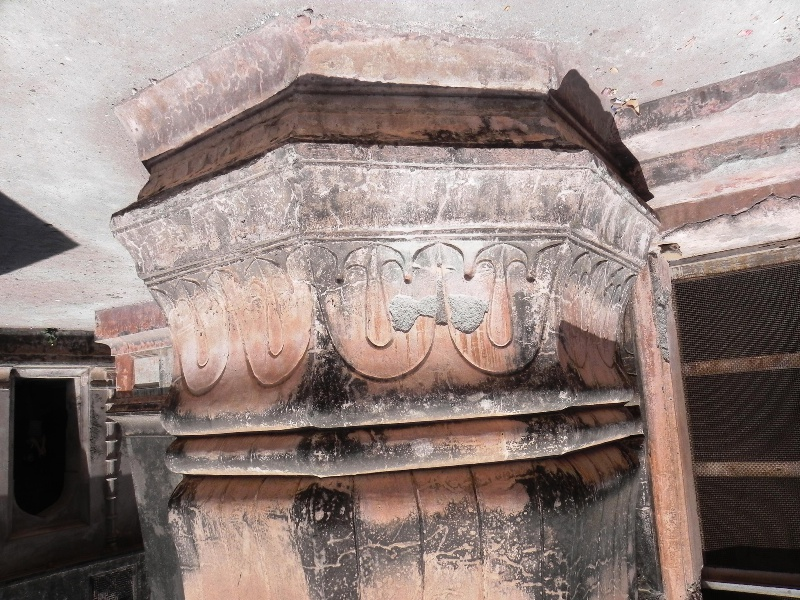Spalling: (385, 284, 497, 339)
